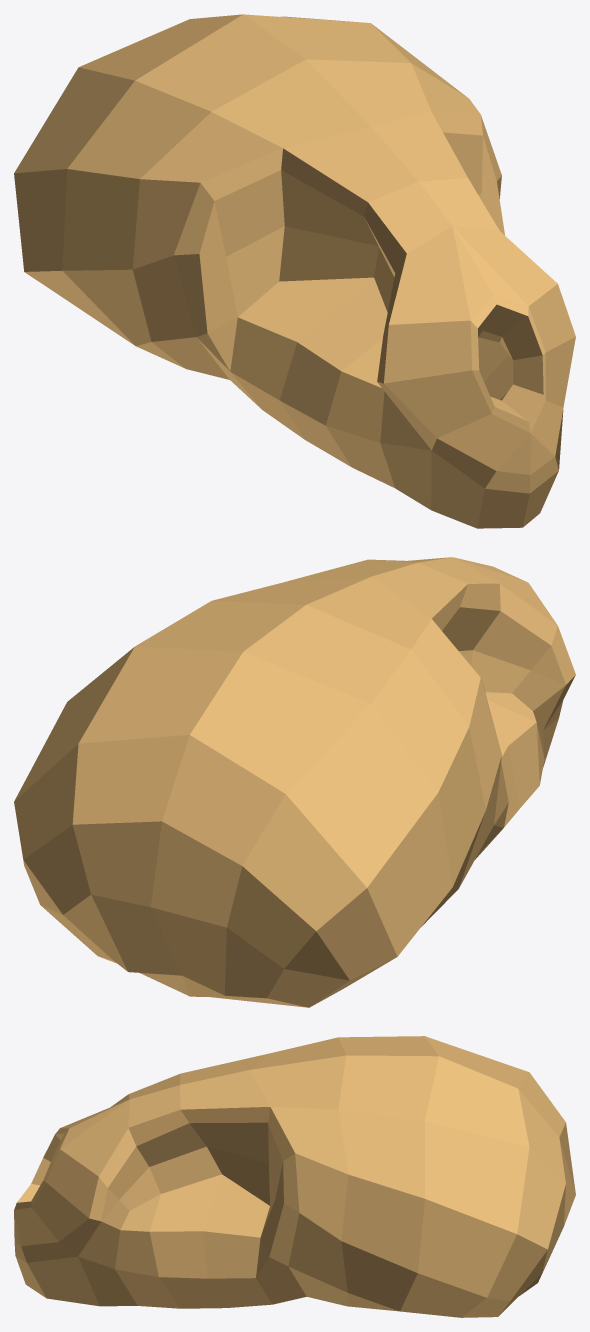
Rendered from Skull_04.fbx.
The picture shows the model from 3 angles, top to bottom: view 1: azimuth 30°, elevation 25°; view 2: azimuth 150°, elevation 25°; view 3: azimuth 270°, elevation 25°; orthographic projection. The views are drawn at different scales.
Visible parts, largest first — view 1: Skull_04; view 2: Skull_04; view 3: Skull_04.
Boxes of the visible parts, bbox=[...] form: Skull_04: bbox=[14, 14, 575, 528]; Skull_04: bbox=[14, 557, 575, 1007]; Skull_04: bbox=[14, 1036, 575, 1317].
Size of the model in its own units: 43.04 by 34.41 by 72.57.
